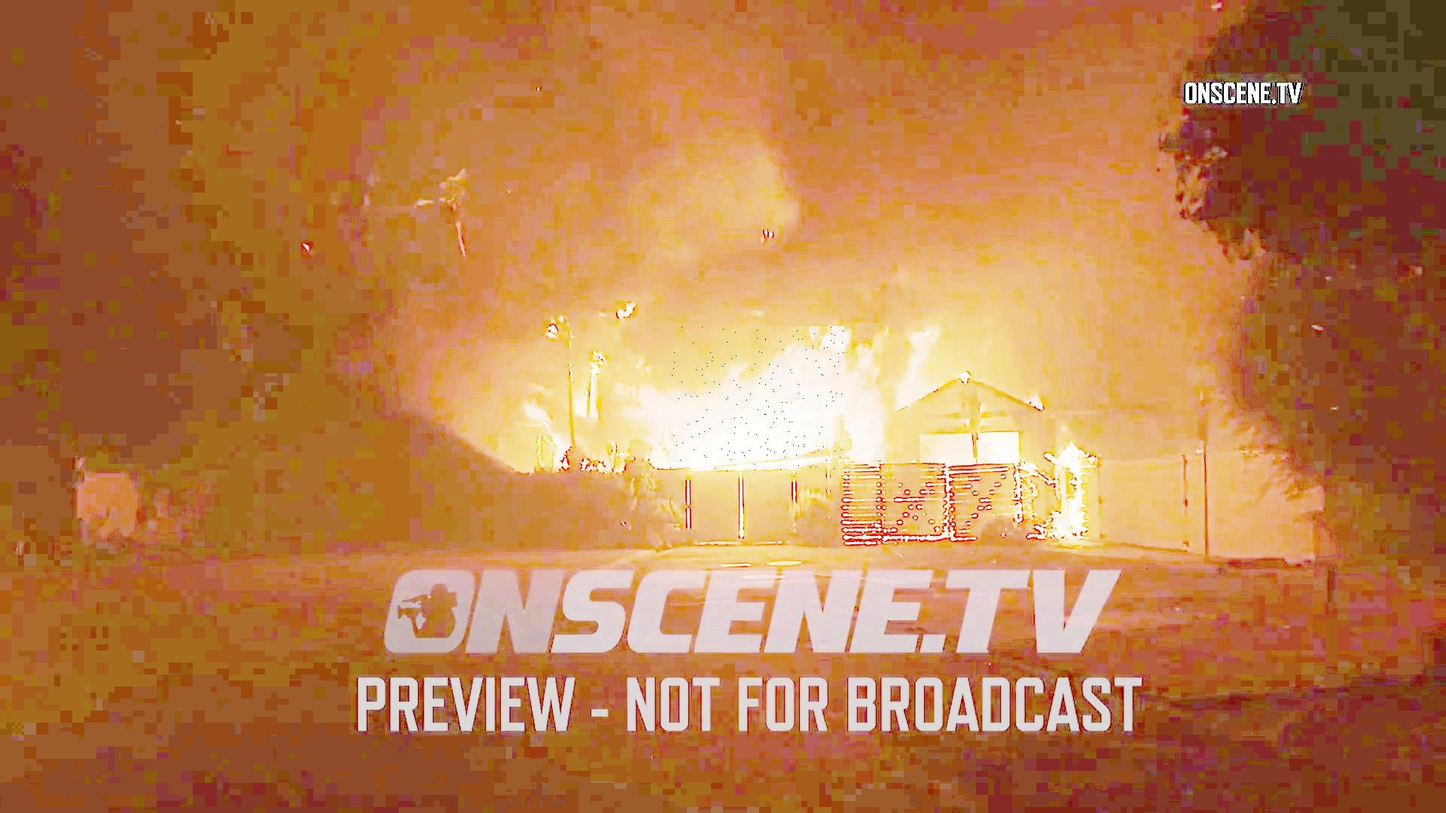fire: (670, 326, 844, 471)
